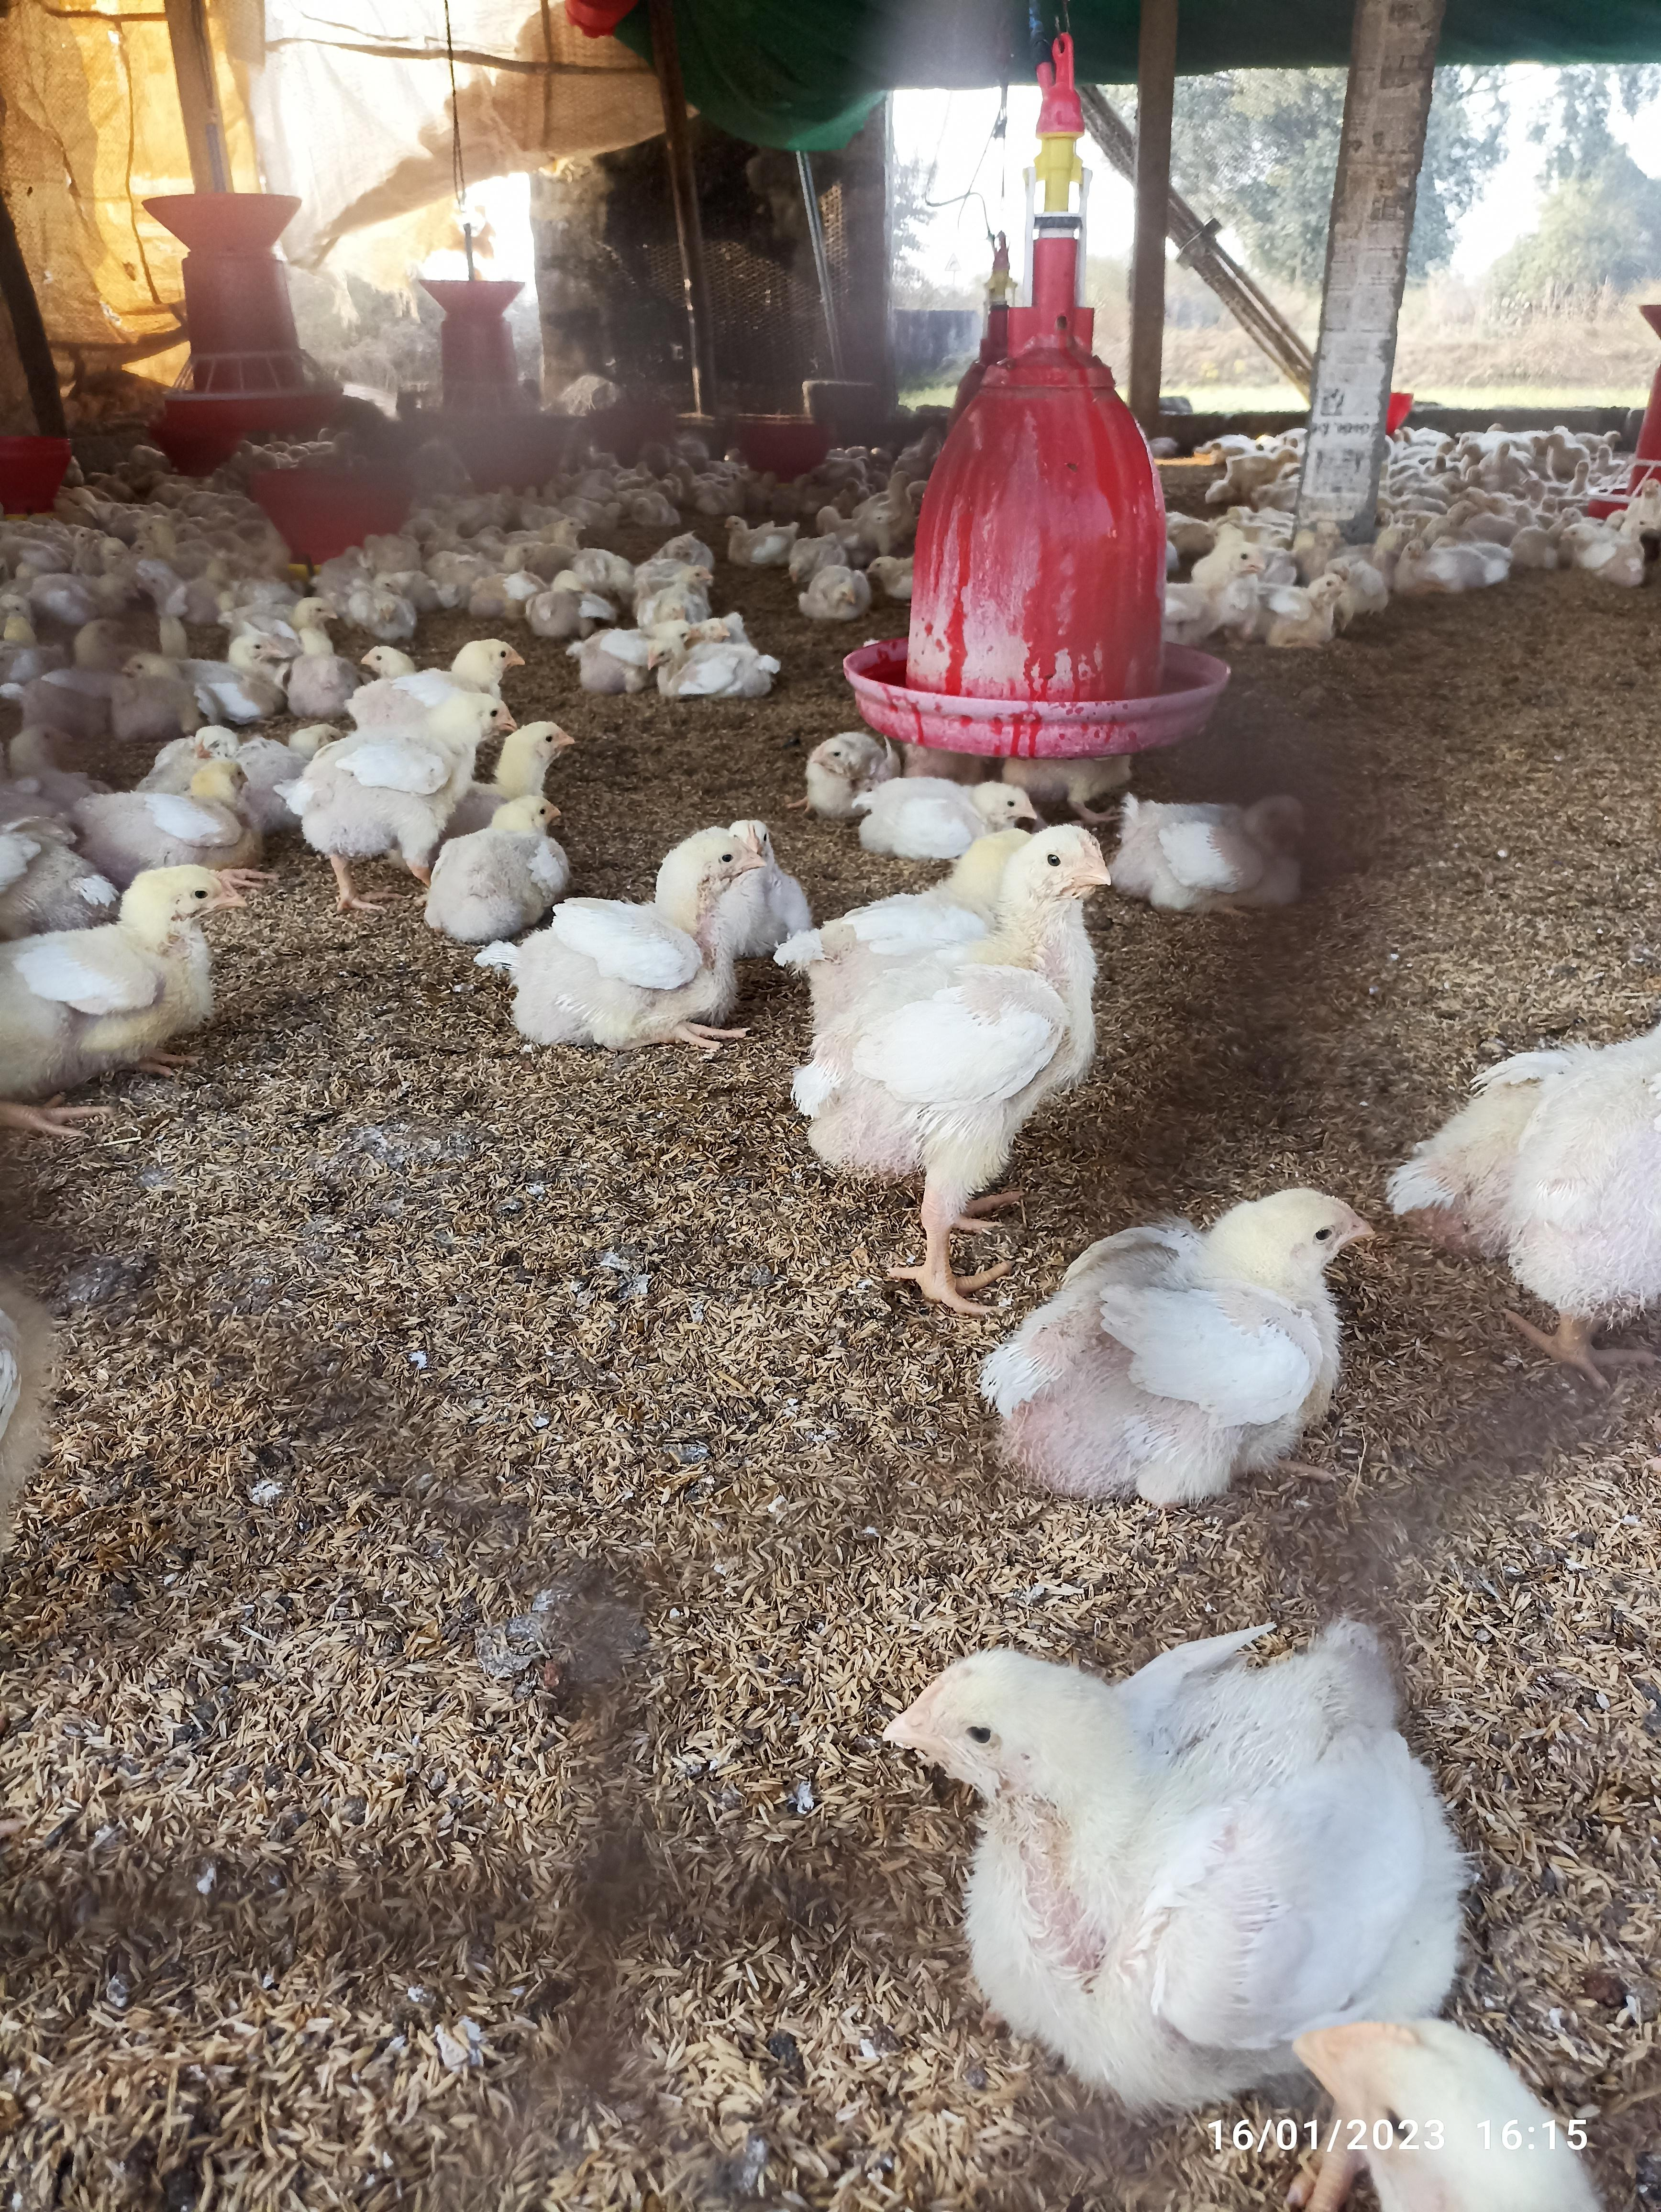Pollos: (876, 1626, 1469, 2017), (967, 1178, 1391, 1504), (797, 820, 1115, 1190), (0, 860, 251, 1085), (276, 691, 525, 874), (544, 836, 757, 1045), (1118, 790, 1317, 912), (89, 712, 258, 850), (431, 799, 576, 925), (864, 776, 1029, 864), (185, 630, 290, 708), (646, 644, 780, 700), (810, 733, 892, 808), (108, 659, 180, 722), (522, 576, 595, 635), (293, 593, 344, 679), (797, 569, 881, 616), (729, 518, 801, 562)
